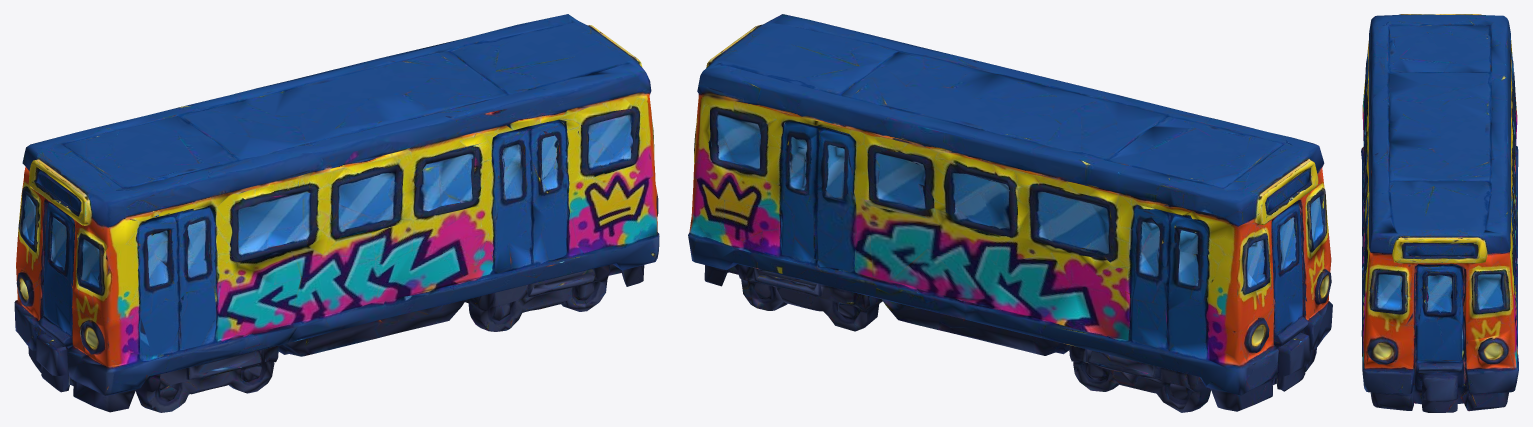
The model's file is carriage.glb.
The picture shows the model from 3 angles, left to right: view 1: azimuth 30°, elevation 25°; view 2: azimuth 150°, elevation 25°; view 3: azimuth 270°, elevation 25°; orthographic projection. The views are drawn at different scales.
Size of the model in its own units: 1.9 by 0.7173 by 0.5404.
1 material, 1 textured.
